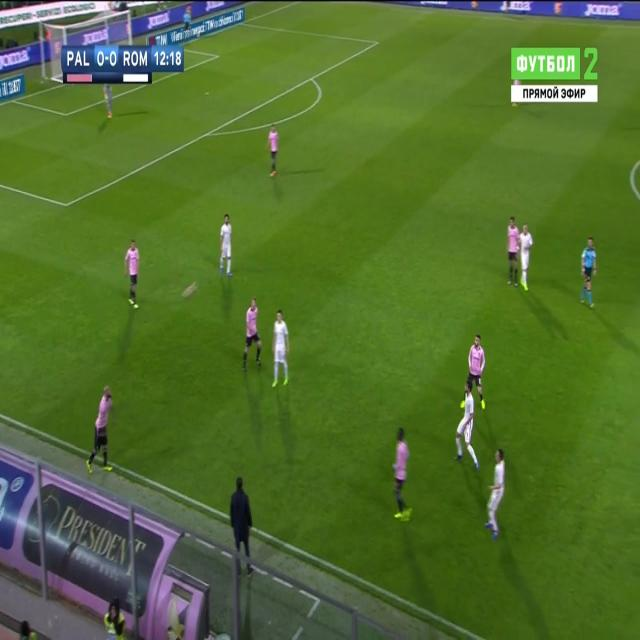Goalkeeper: (102, 82, 116, 124)
Player: (84, 384, 116, 479), (390, 422, 415, 524), (453, 382, 481, 471), (460, 336, 489, 414), (483, 448, 507, 539), (270, 308, 291, 394), (242, 296, 262, 375), (122, 237, 142, 312), (217, 211, 235, 282), (504, 215, 521, 289), (518, 225, 535, 292), (266, 123, 280, 180)
Referee: (578, 231, 598, 317)
